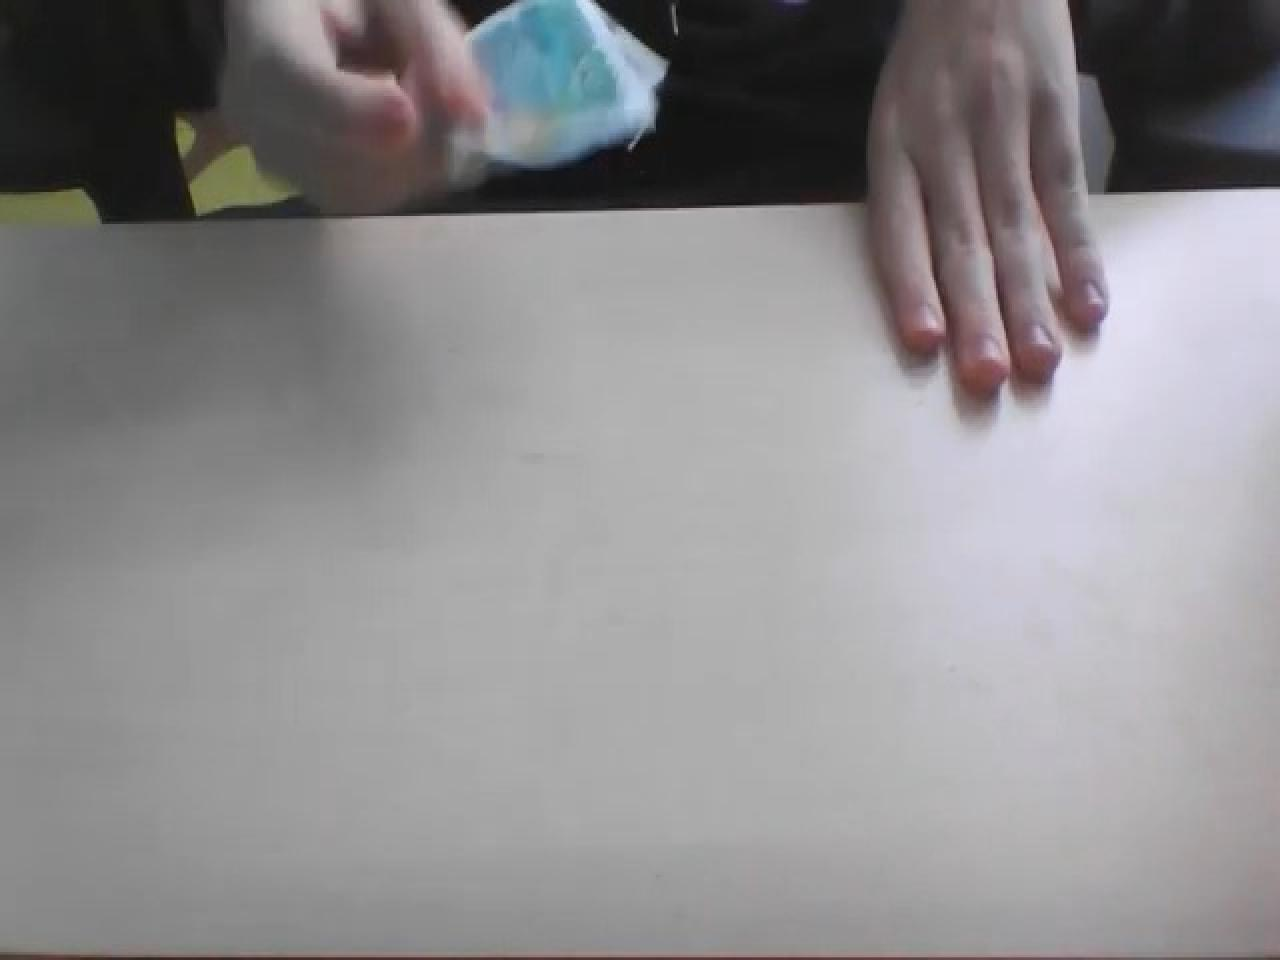100leva: (6, 21, 1280, 792), (444, 0, 672, 187)
